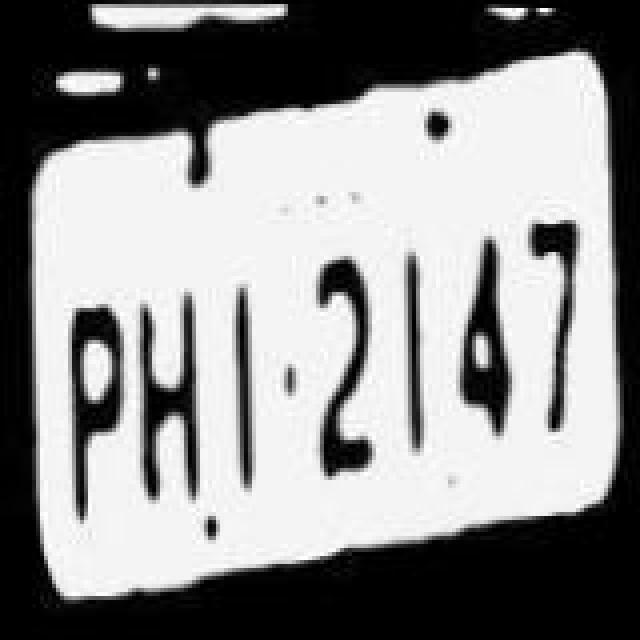1: (386, 220, 434, 472), (210, 270, 262, 498)
2: (294, 240, 382, 496)
4: (448, 224, 516, 472)
7: (516, 206, 592, 454)
H: (134, 274, 210, 502)
P: (54, 276, 130, 520)
